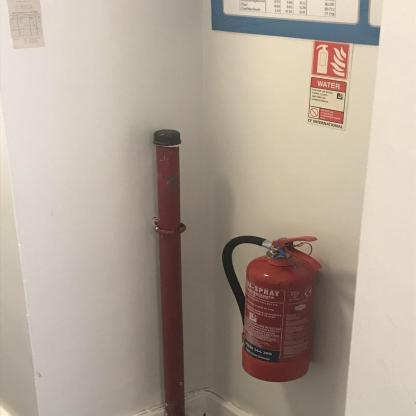Fire Extinguisher: (216, 213, 330, 392)
